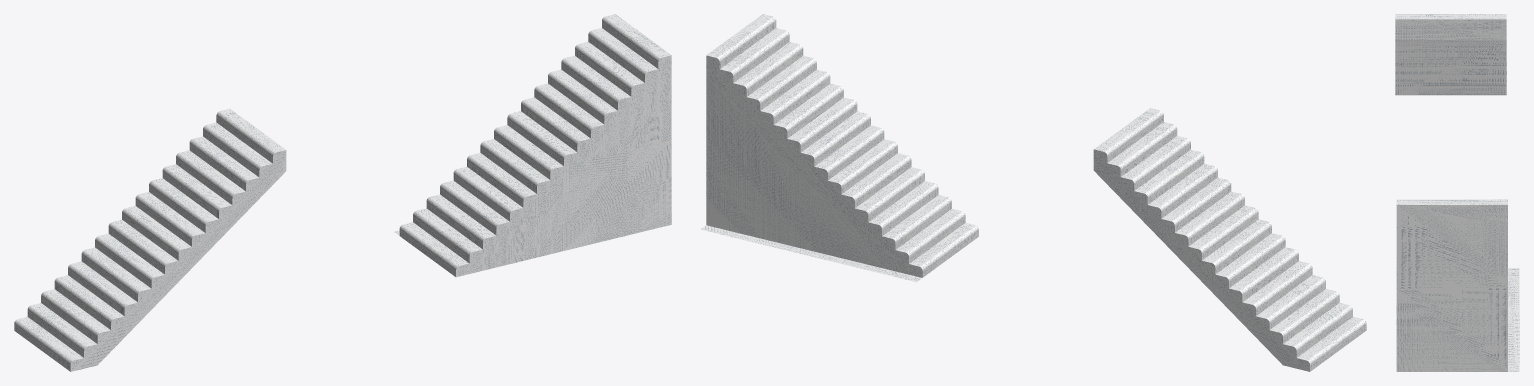
Rendered from Stairs.dae.
3 views of the same model, side by side, from view 1: azimuth 30°, elevation 25°; view 2: azimuth 150°, elevation 25°; view 3: azimuth 270°, elevation 25° (orthographic).
Visible parts, largest first — view 1: SketchUp, group_0; view 2: SketchUp, group_0; view 3: SketchUp, group_0.
Part boxes in pixels (x1,y1,x2,y2): SketchUp: (394,14,671,277); group_0: (14,108,286,371); SketchUp: (700,14,978,282); group_0: (1093,108,1366,371); SketchUp: (1396,199,1519,371); group_0: (1395,14,1506,95).
Bounding box in the file's own units: 11.15 × 2.02 × 3.
